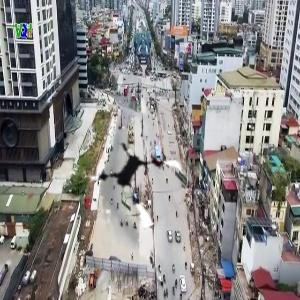drone: (88, 134, 189, 235)
